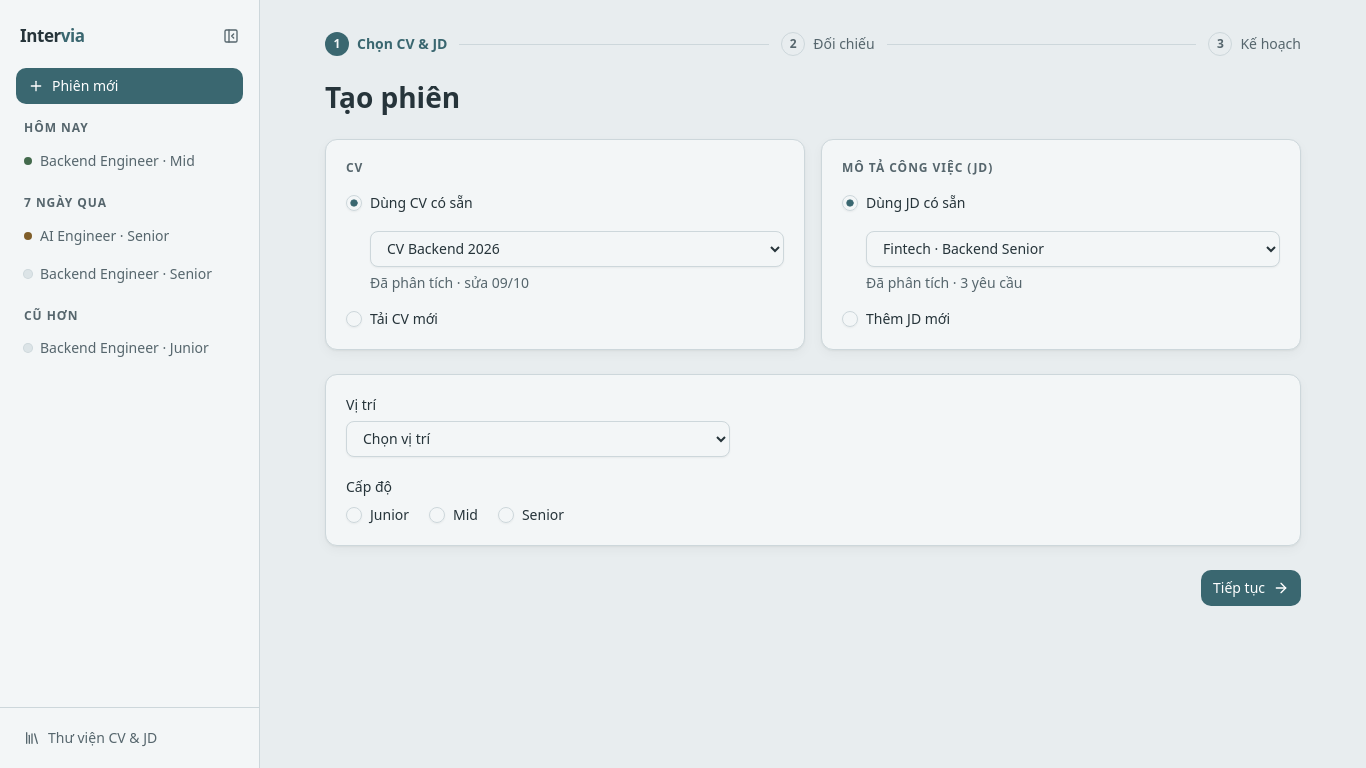
Test case: SessionNewPage › shows errors under each missing field and sends nothing
The image size is (1366, 768).
Expected: the dropdown named "CV có sẵn" below "Dùng CV có sẵn" is shown, top-left (370, 231), bottom-right (784, 267)
What coordinates should you click on to do the following:
click the radio button named "Thêm JD mới" next to "Thêm JD mới"
I would click on:
 (850, 319)
Its box is top-left (842, 311), bottom-right (858, 327).
(page scrolled)
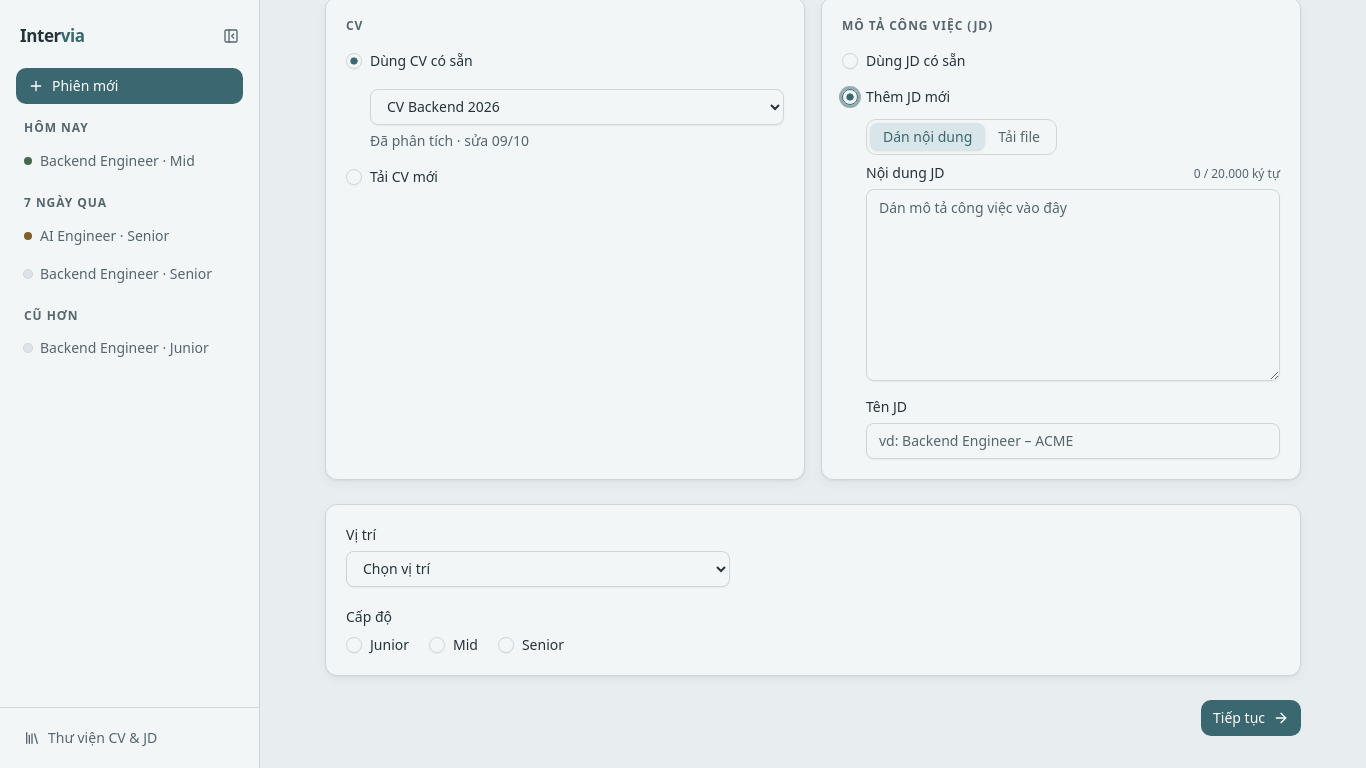
What coordinates should you click on to do the following:
click the button "Tiếp tục"
I would click on:
 (1251, 718)
Its box is top-left (1201, 700), bottom-right (1301, 736).
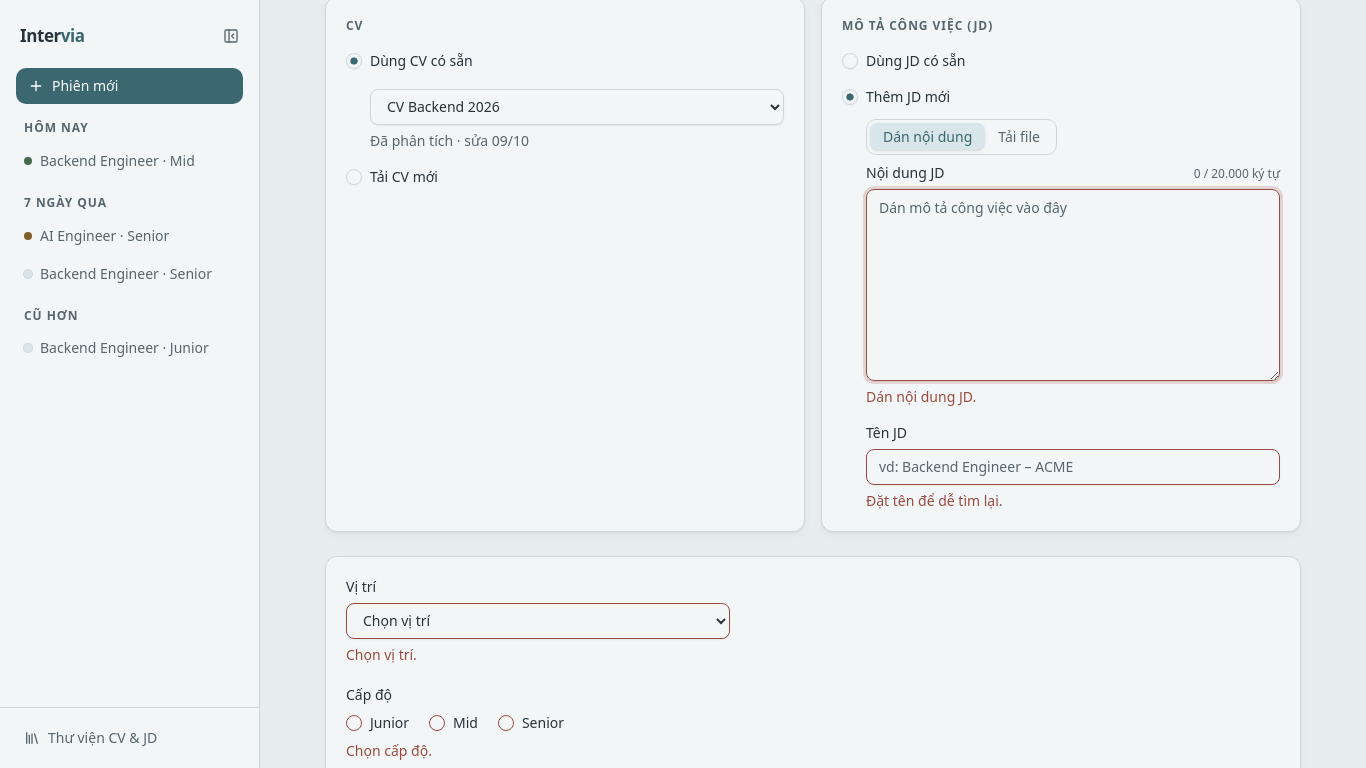
Now the text "Chọn cấp độ." is shown, box top-left (346, 741), bottom-right (432, 760)
